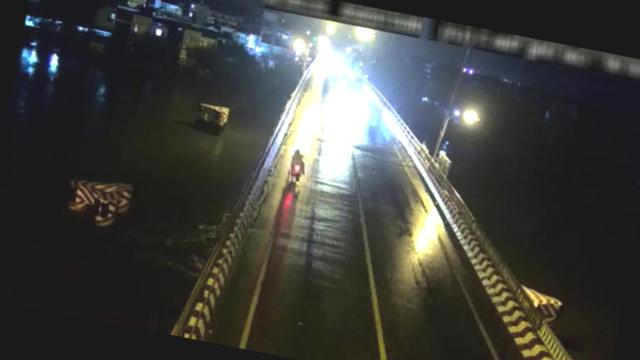Bike: (284, 144, 310, 183)
